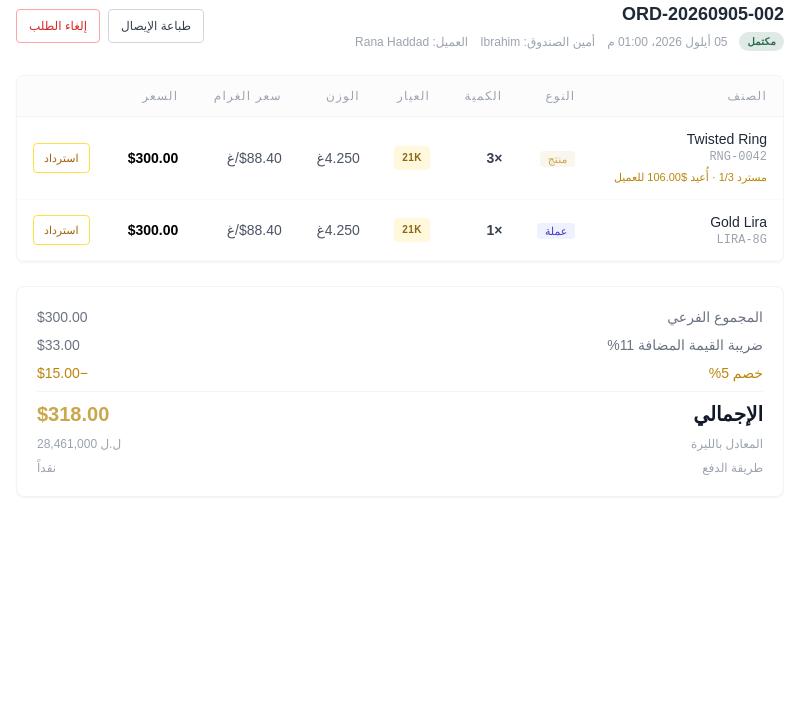
Test case: order detail: voiding an order › says a reason is needed instead of silently doing nothing
This screenshot has width=796, height=716.
Click the button "إلغاء الطلب": (58, 26) [16,8,100,42]
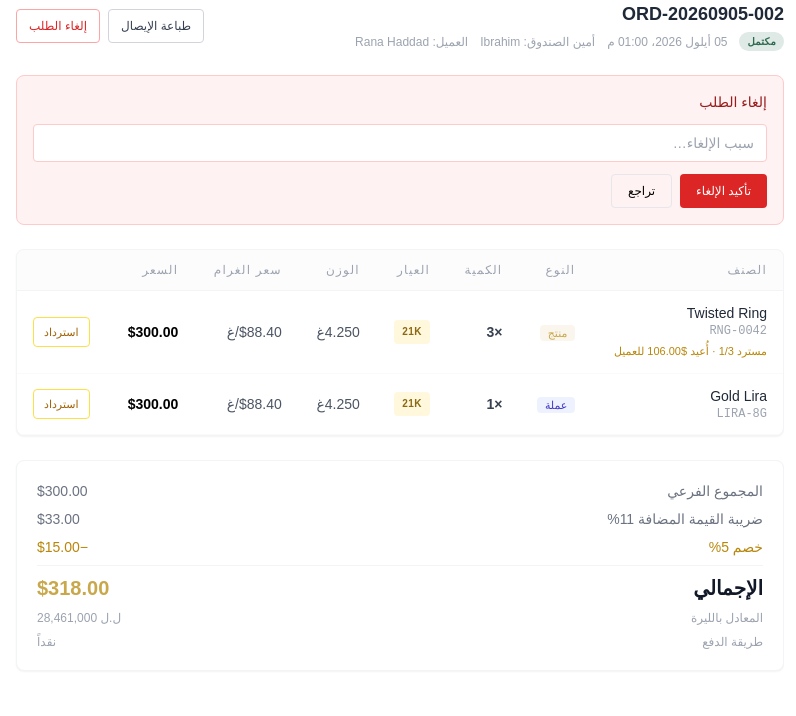
Click the button "تأكيد الإلغاء": (724, 191) [680,174,767,208]
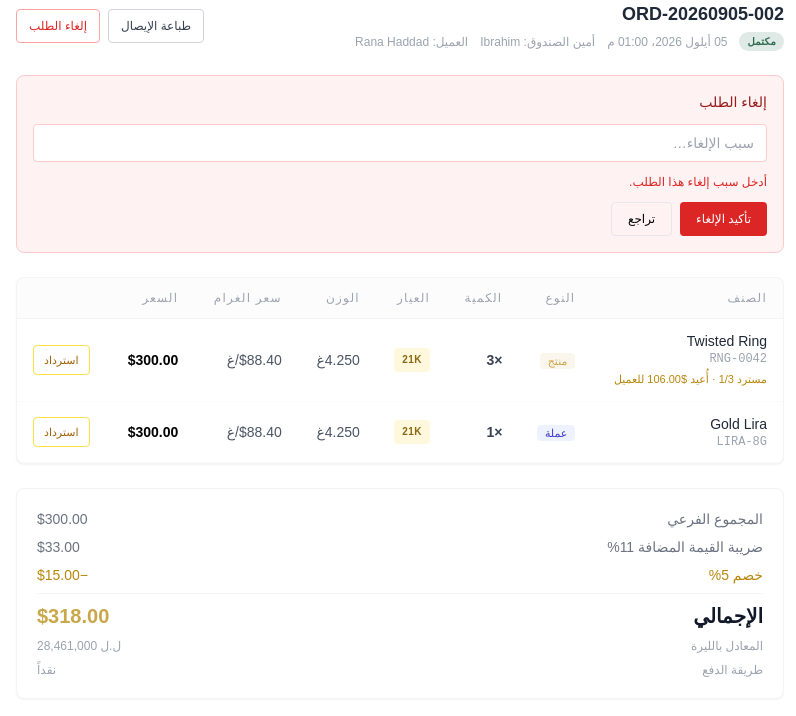
Expected: the message reads "أدخل سبب إلغاء هذا الطلب.", [629,175,767,189]
